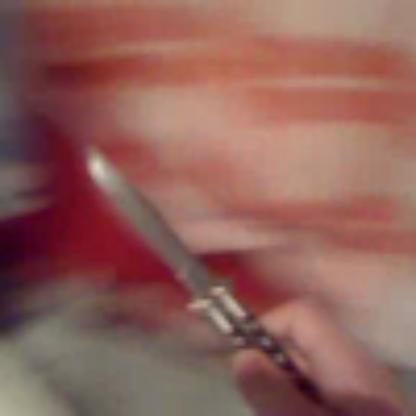knives: (63, 96, 315, 394)
